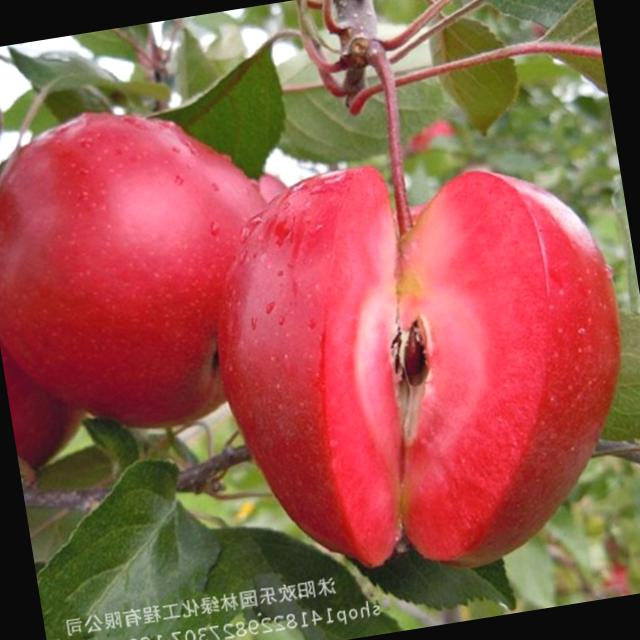apple: (0, 82, 308, 442)
